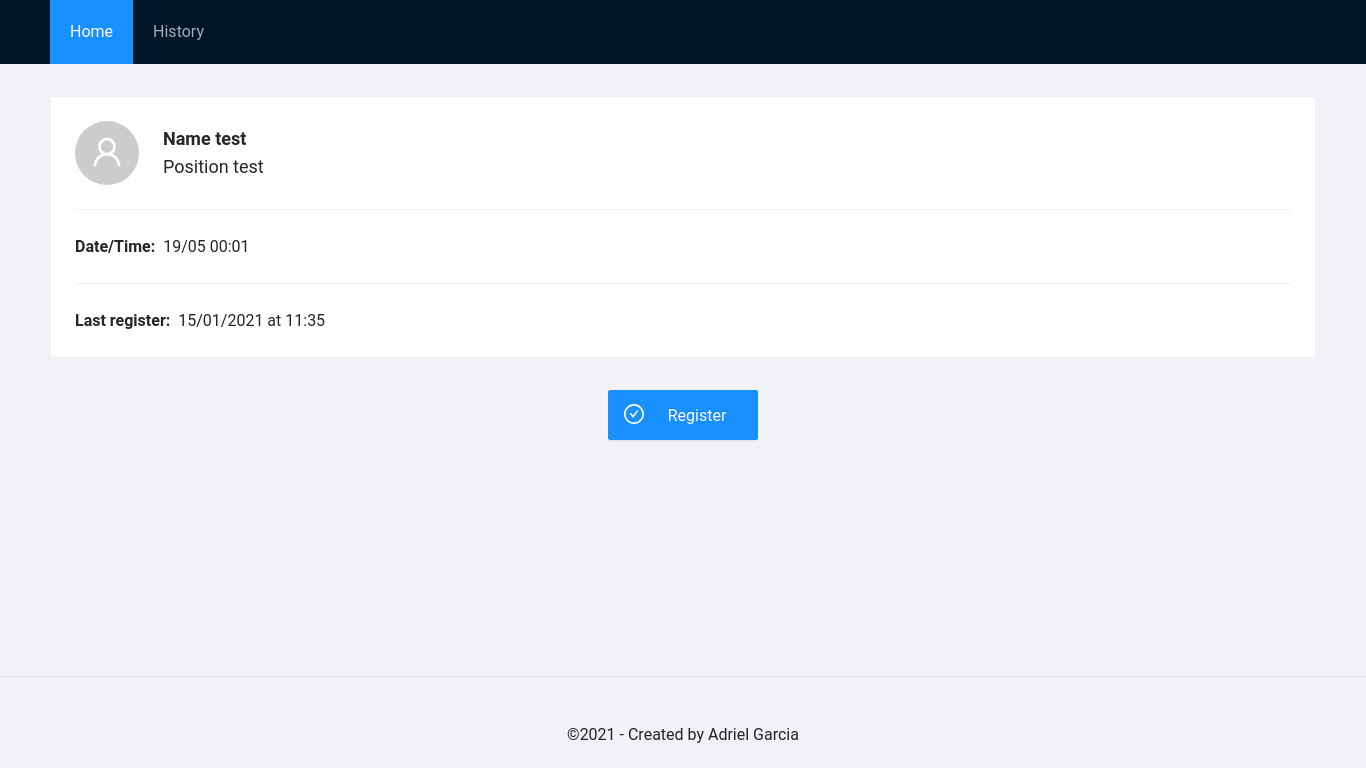
Home page › should be able to do a register and show a success modal
This screenshot has width=1366, height=768.
Check: the text "Name test" is shown, box [163,125,246,153]
Step 1. Click the button "Register" → click(683, 415), box [608,390,758,440]
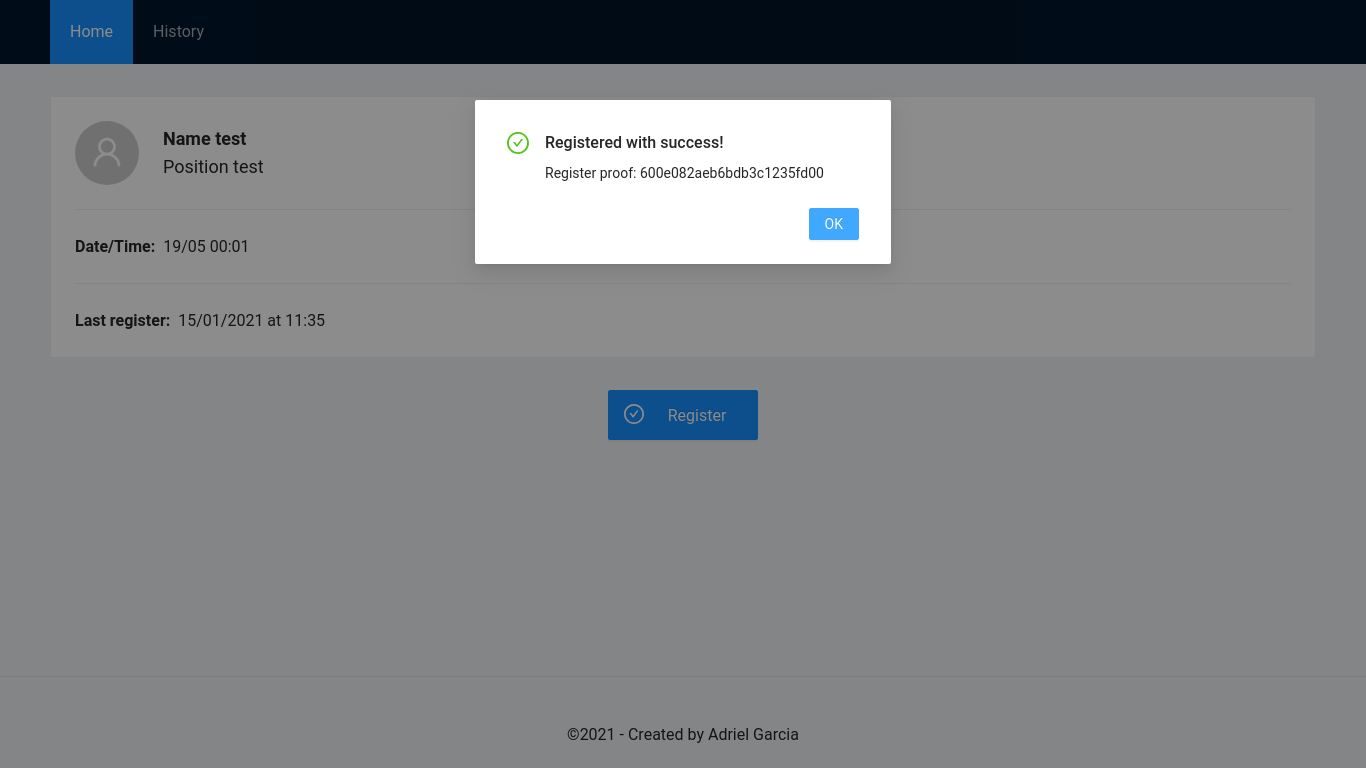
Check: the text "Registered with success!" is shown, box [545,133,724,152]
